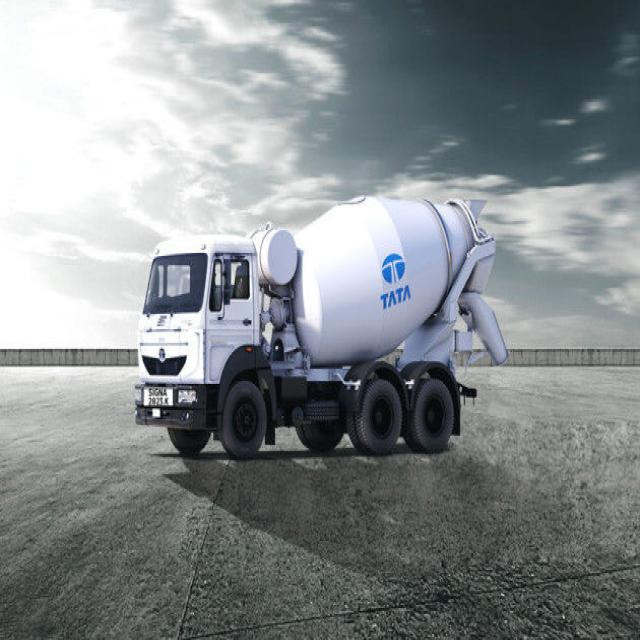truck: (135, 197, 507, 458)
